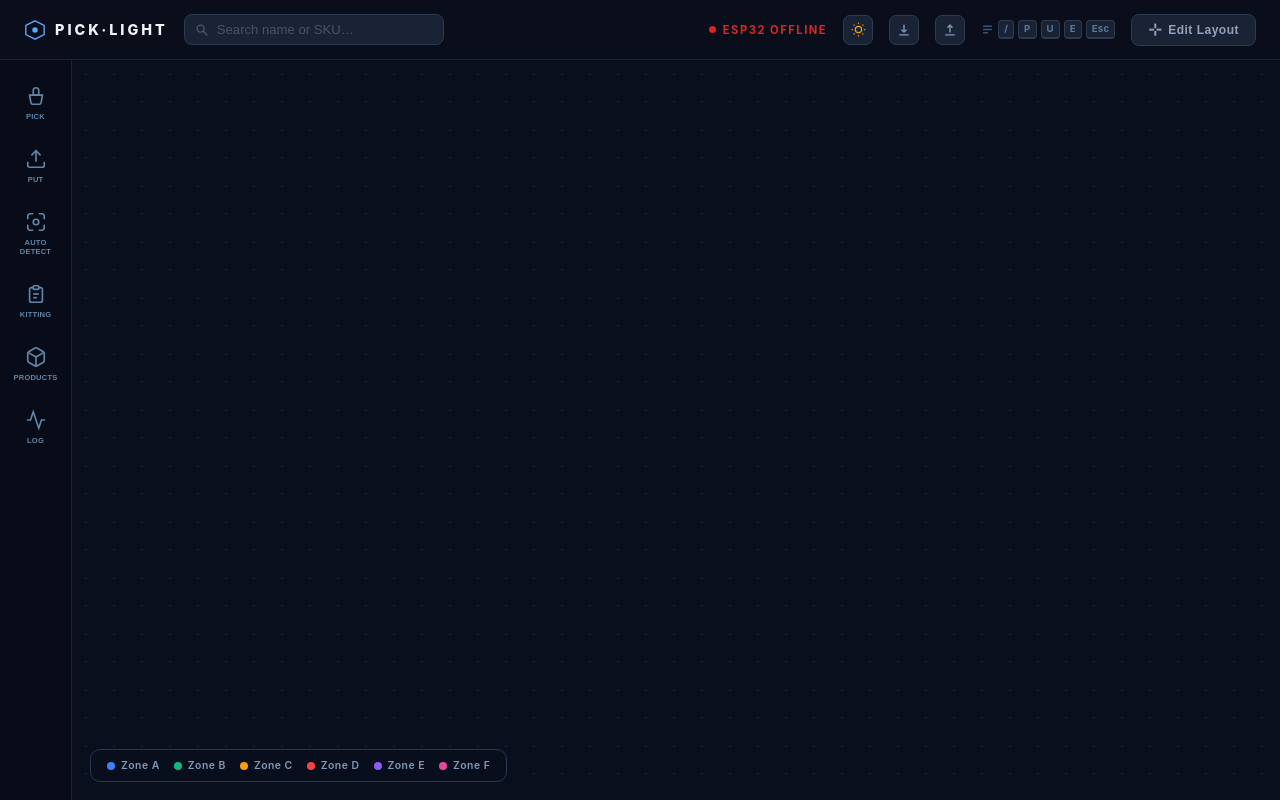
done editing returns to normal mode
Click the button "⊹ Edit Layout" at (1194, 30), box [1131,14,1256,46]
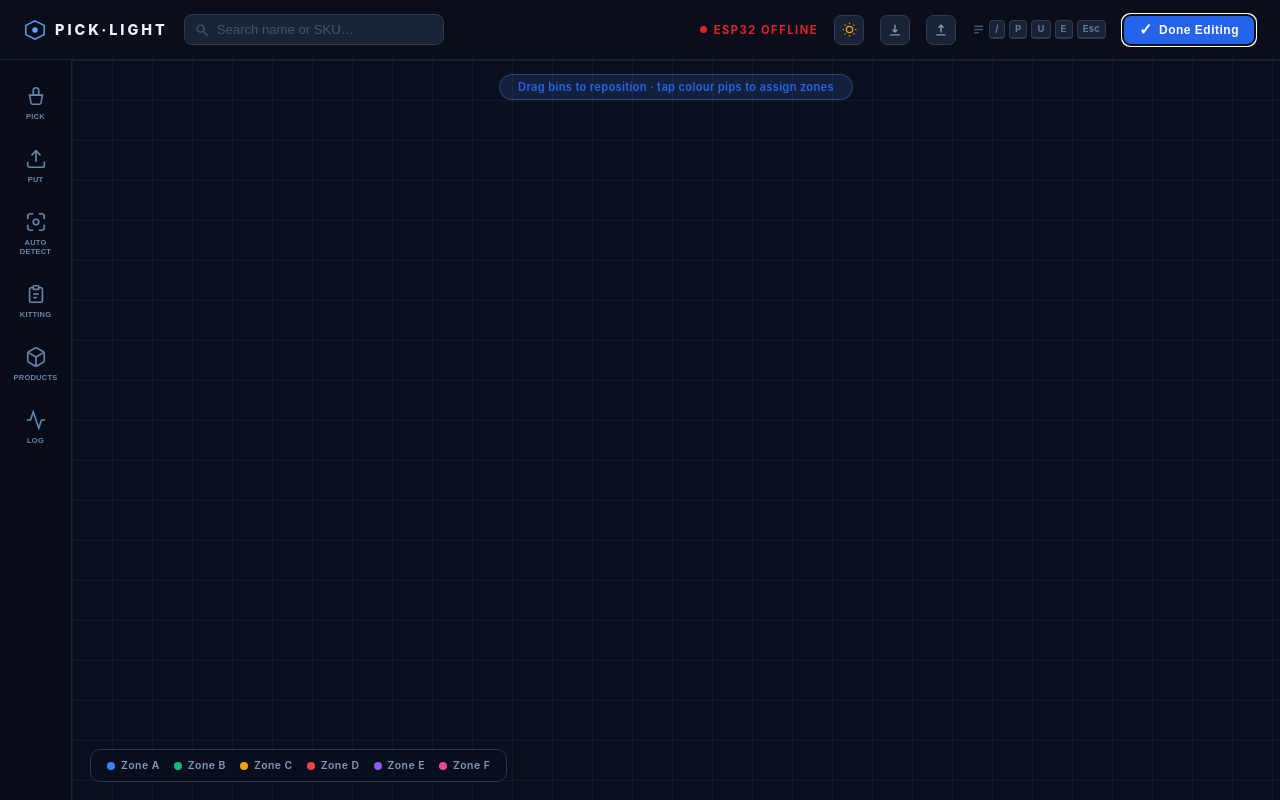
Click the button "✓ Done Editing" at (1189, 30), box [1122,14,1256,46]
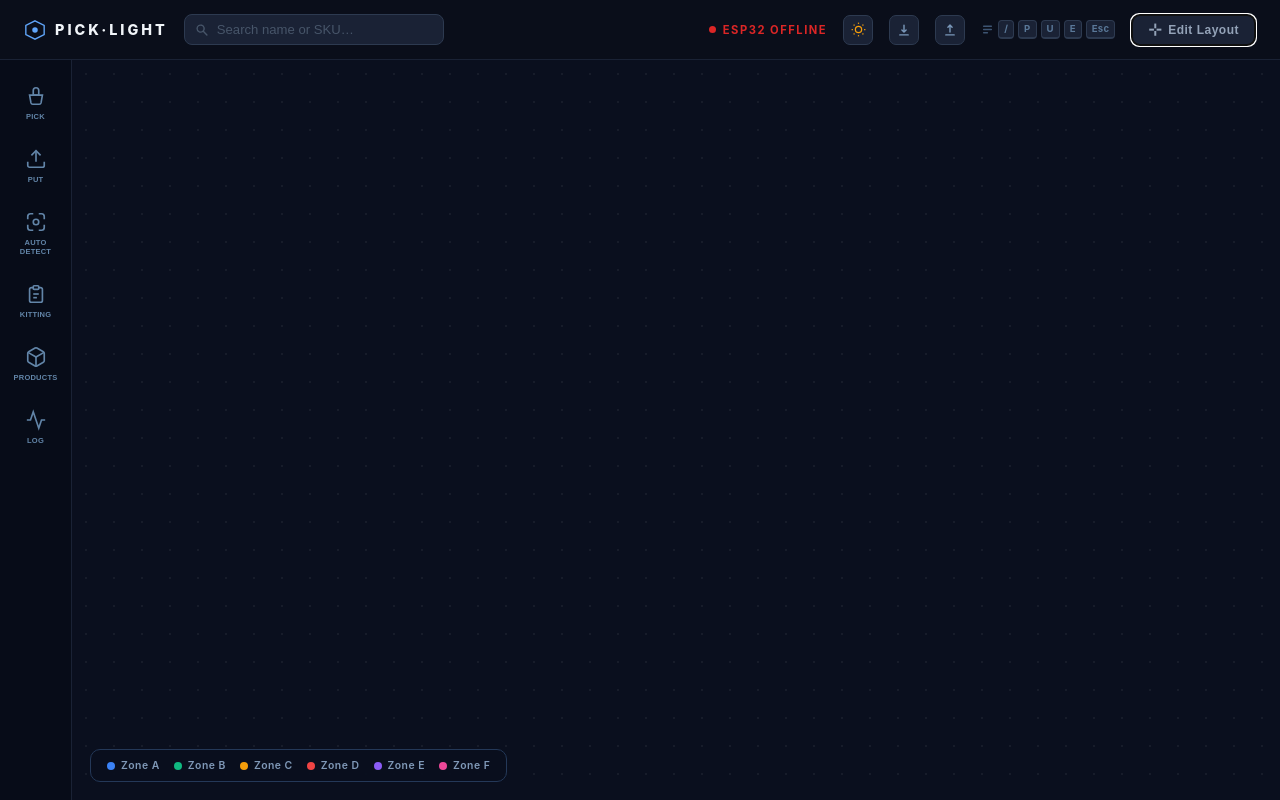
Expected: the button "⊹ Edit Layout" is shown, [1131,14,1256,46]
